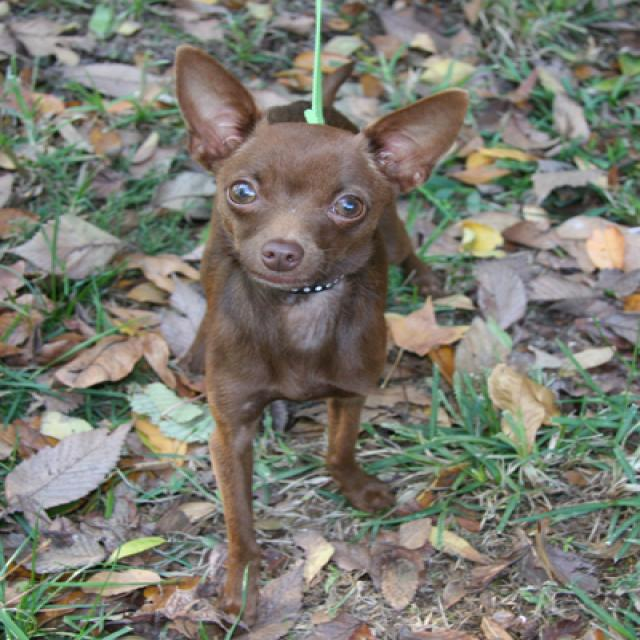Dogs: (170, 43, 470, 625)
